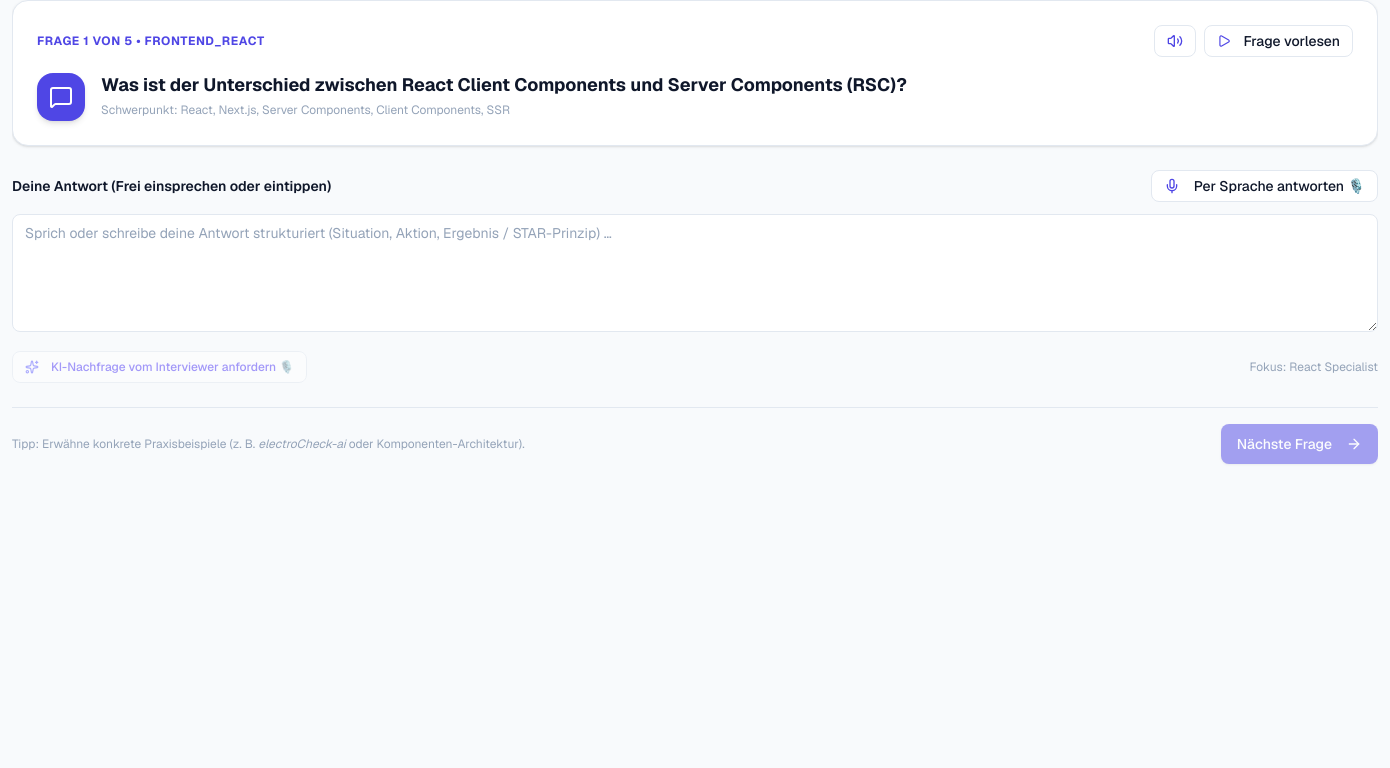
Test: VoiceInterviewRunner › fordert eine KI-Nachfrage an und zeigt diese im DOM an
Replace the text in the text box with placeholder "Sprich oder schreibe deine Antwort" with "Ich habe ein modulares React 19 Frontend mit Server Components gebaut." at (695, 273), box [12, 214, 1378, 332]
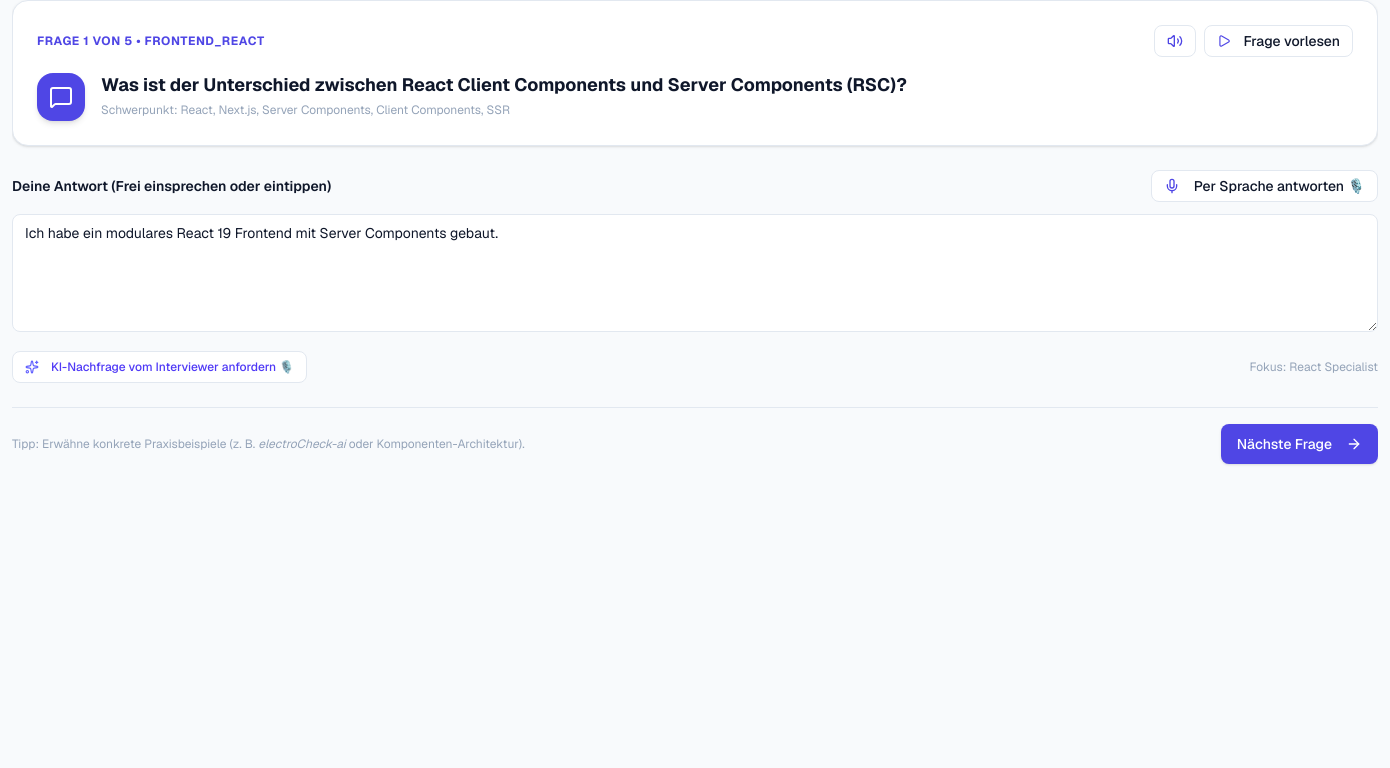
Click the button "KI-Nachfrage vom Interviewer anfordern 🎙️" at (160, 367), box [12, 351, 307, 383]
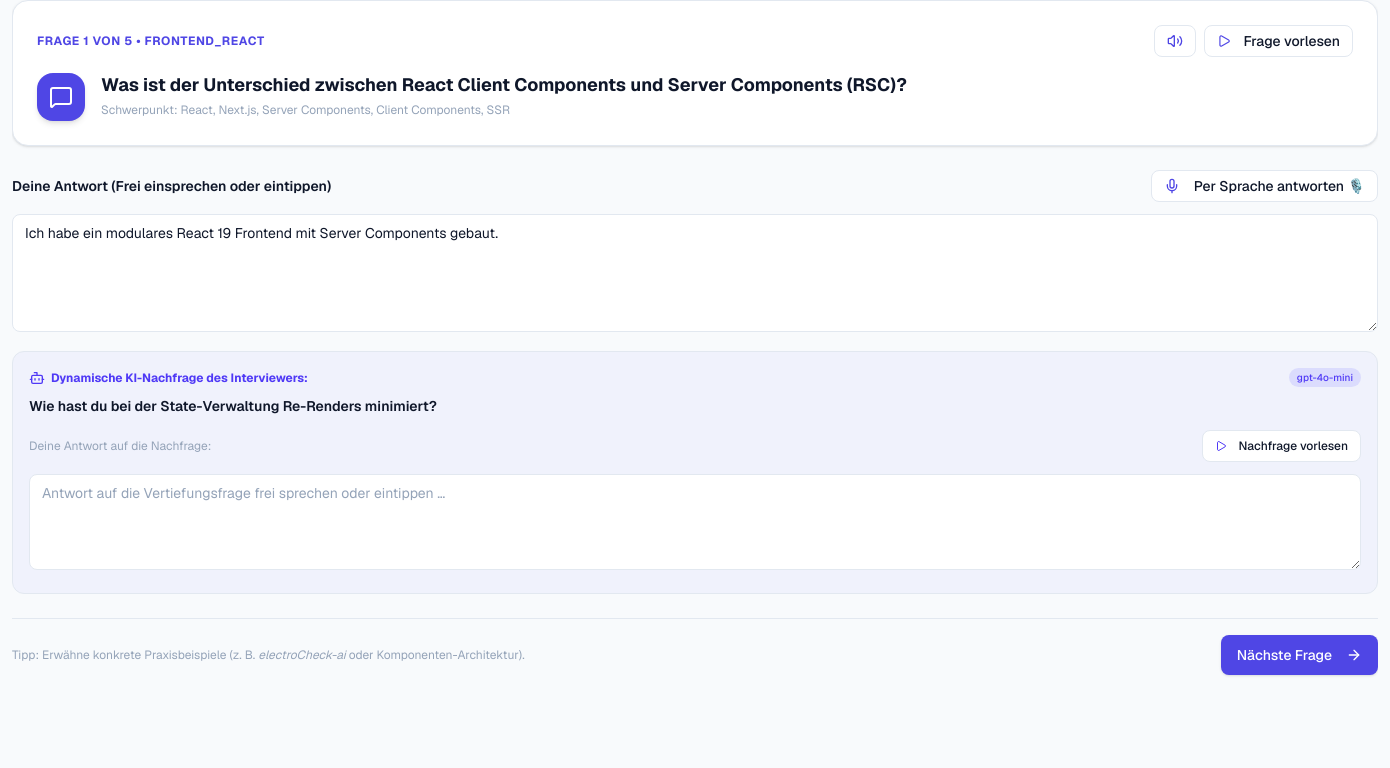
Expected: the text "Dynamische KI-Nachfrage des Interviewers:" is shown, [29, 370, 308, 386]
Expected: the text "Wie hast du bei der State-Verwaltung Re-Renders minimiert?" is shown, [29, 397, 437, 415]
Expected: the text "gpt-4o-mini" is shown, [1289, 368, 1361, 387]
